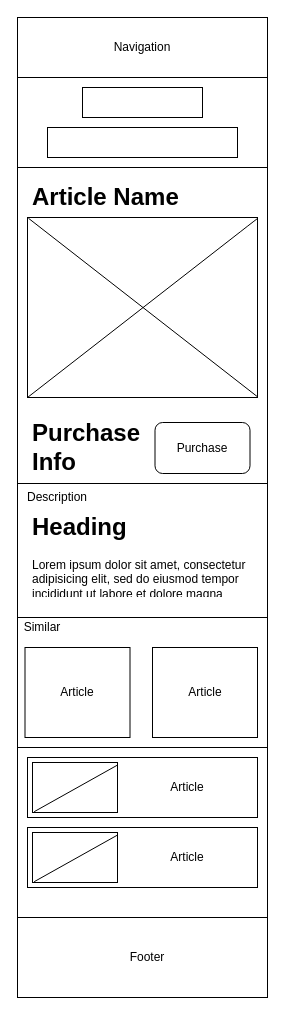
Image size: 285x1015. Some labels were removed from this diagram. Each missing label, with the centre of its shape:
"Logo" belongs at [142,102].
"Search" belongs at [142,142].
